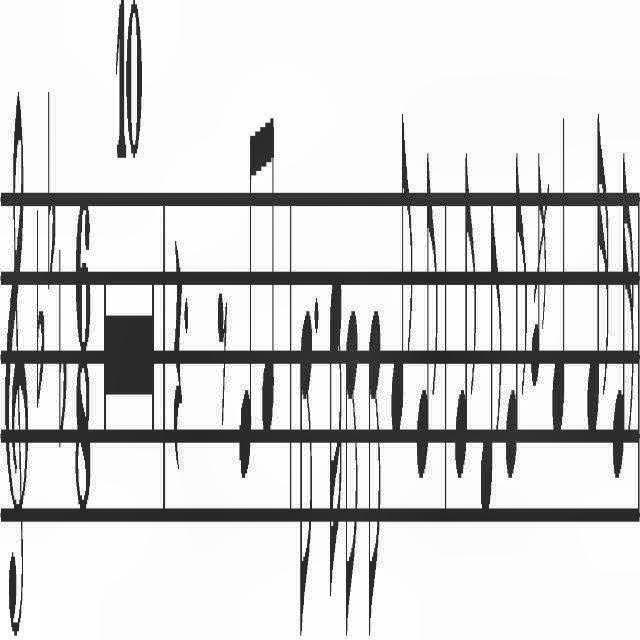Bass-clef: (0, 24, 30, 640)
Bemol: (56, 226, 70, 462), (34, 182, 46, 422), (44, 64, 56, 304)
Eighth-note: (503, 130, 529, 498), (478, 160, 502, 538), (391, 63, 414, 454), (452, 142, 476, 506), (414, 149, 438, 487), (259, 103, 277, 491), (237, 127, 255, 486), (300, 284, 314, 640), (343, 296, 357, 640), (366, 280, 378, 640)
Eighth-rest: (214, 272, 230, 450)
Quarter-note: (547, 88, 569, 496)
Quarter-rest: (166, 136, 182, 532)
Sixteenth-note: (584, 88, 612, 464), (612, 121, 636, 491), (326, 248, 342, 624)
